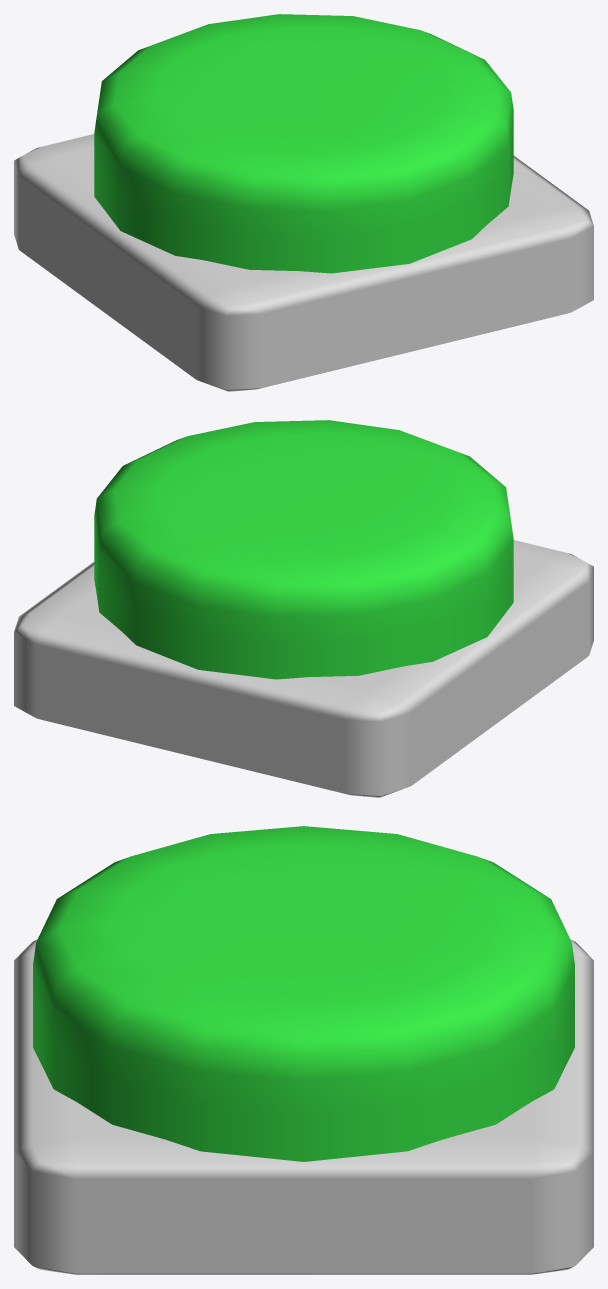
The model's file is Done_Button.fbx.
3 renders of one model, top to bottom at view 1: azimuth 30°, elevation 25°; view 2: azimuth 150°, elevation 25°; view 3: azimuth 270°, elevation 25°, orthographic. The views are drawn at different scales.
Visible parts, largest first — view 1: Circle.003, Cube.019; view 2: Circle.003, Cube.019; view 3: Circle.003, Cube.019.
Boxes of the visible parts, x1,y1,x2,y2 form: Circle.003: [94, 14, 513, 273]; Cube.019: [14, 134, 593, 391]; Circle.003: [94, 420, 513, 679]; Cube.019: [14, 540, 593, 797]; Circle.003: [33, 826, 574, 1161]; Cube.019: [14, 939, 593, 1274].
Bounding box in the file's own units: 38.99 × 17.8 × 38.99.
